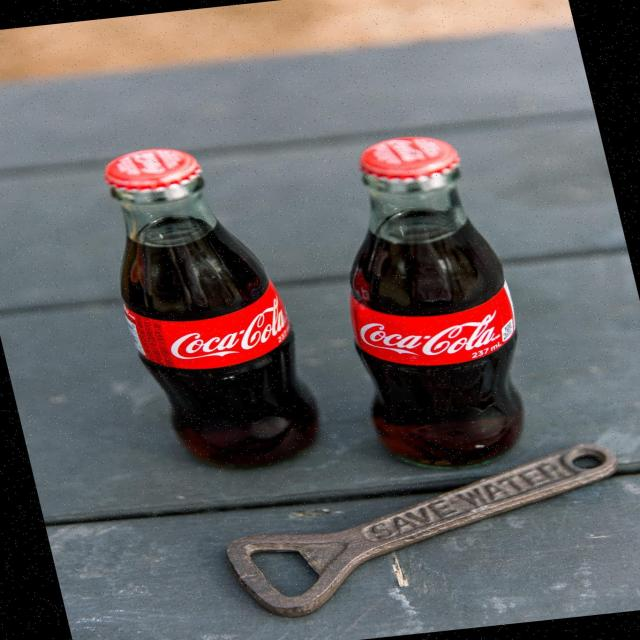coca-cola: (290, 113, 557, 481), (77, 130, 337, 476)
